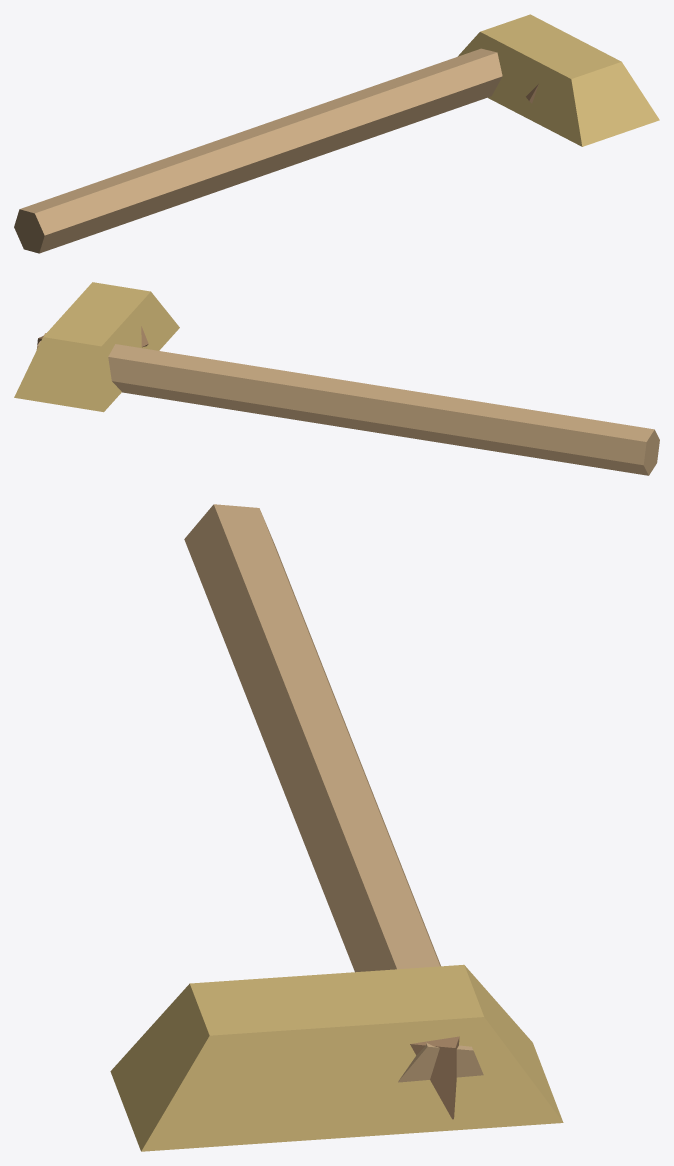
File: item_083_bronze_axe_s.glb
The picture shows the model from 3 angles, top to bottom: view 1: azimuth 30°, elevation 25°; view 2: azimuth 150°, elevation 25°; view 3: azimuth 270°, elevation 25°; orthographic projection. The views are drawn at different scales.
Visible parts, largest first — view 1: item_083_bronze_axe_s; view 2: item_083_bronze_axe_s; view 3: item_083_bronze_axe_s.
Boxes of the visible parts, x1,y1,x2,y2 form: item_083_bronze_axe_s: (14, 14, 659, 253); item_083_bronze_axe_s: (14, 282, 659, 475); item_083_bronze_axe_s: (110, 504, 563, 1151).
Size of the model in its own units: 0.6339 by 0.0594 by 0.2118.
